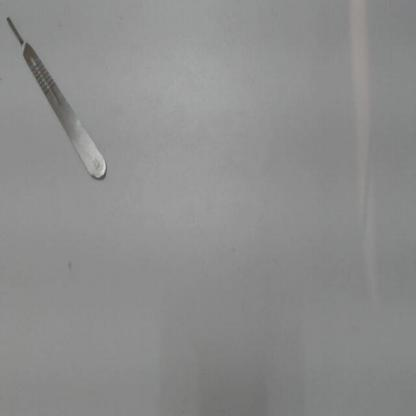No.3 BP Handle: (3, 3, 111, 190)
